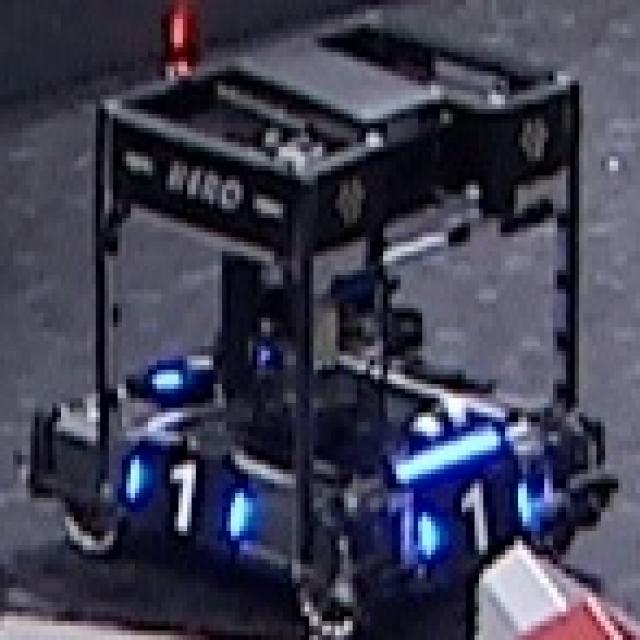B1: (122, 450, 248, 540), (418, 478, 531, 554)
